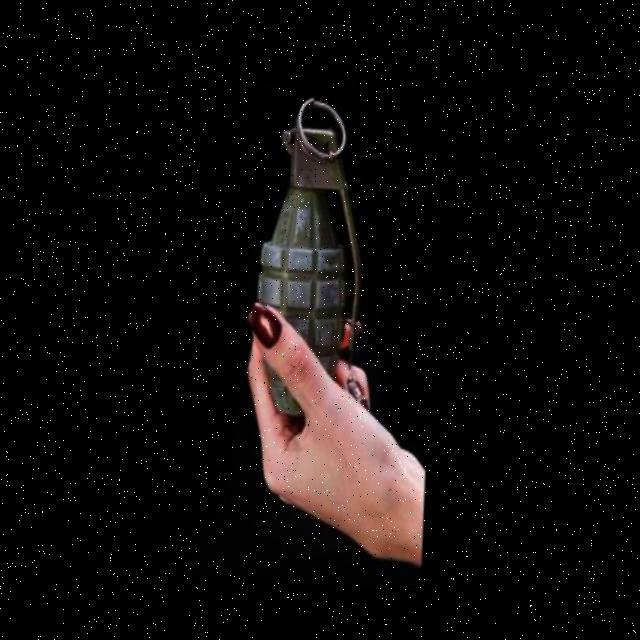grenade: (214, 65, 406, 425)
